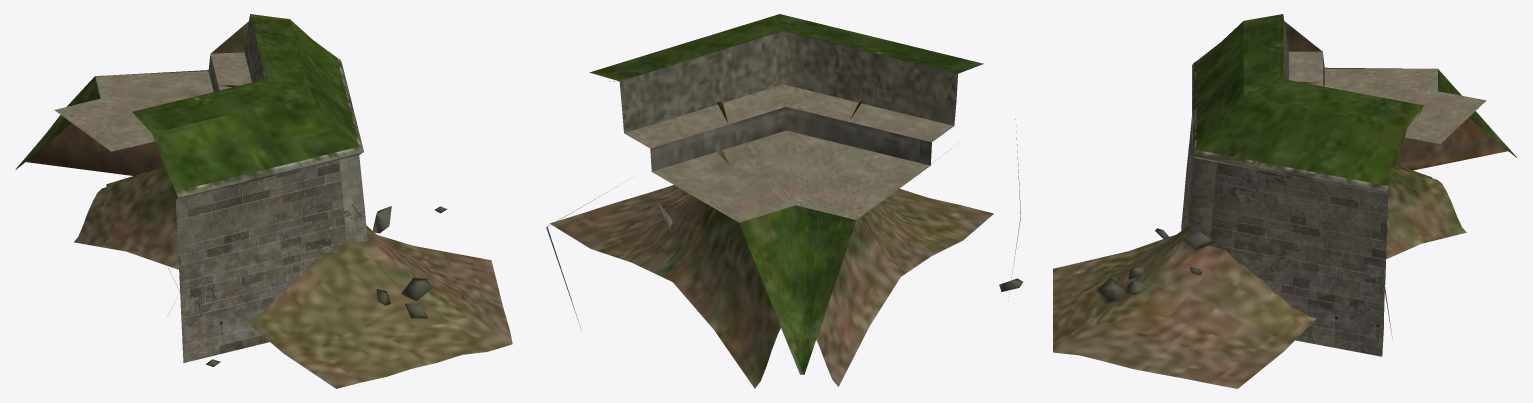
Rendered from starfort_bastion_shoulder_a66_live.glb.
The picture shows the model from 3 angles, left to right: view 1: azimuth 30°, elevation 25°; view 2: azimuth 150°, elevation 25°; view 3: azimuth 270°, elevation 25°; orthographic projection. The views are drawn at different scales.
Visible parts, largest first — view 1: breached, intact, cracked, endcap_b; view 2: breached, intact, cracked; view 3: breached, intact, cracked, endcap_a.
Boxes of the visible parts, left/top/right/bottom form: breached: left=26, top=14, right=512, bottom=388; intact: left=15, top=14, right=367, bottom=351; cracked: left=22, top=15, right=366, bottom=366; endcap_b: left=113, top=21, right=340, bottom=75; breached: left=549, top=38, right=993, bottom=388; intact: left=590, top=14, right=983, bottom=374; cracked: left=591, top=14, right=1022, bottom=374; breached: left=1053, top=14, right=1516, bottom=388; intact: left=1184, top=14, right=1516, bottom=356; cracked: left=1155, top=14, right=1516, bottom=356; endcap_a: left=1193, top=21, right=1401, bottom=68.
Size of what is drawn, in the model's own units: 10.25 by 6.24 by 12.35.
1 material, 1 textured.
